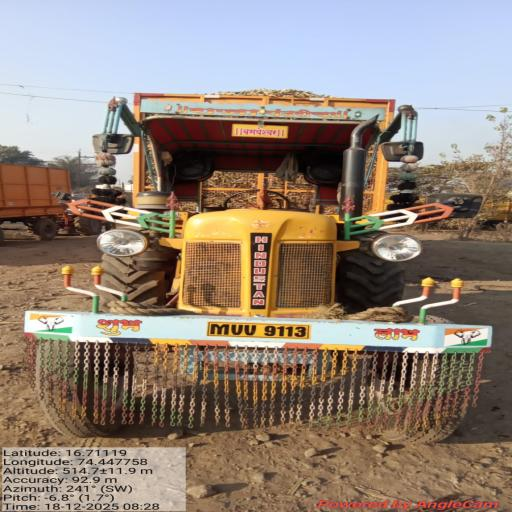number_plate: (208, 322, 310, 339)
